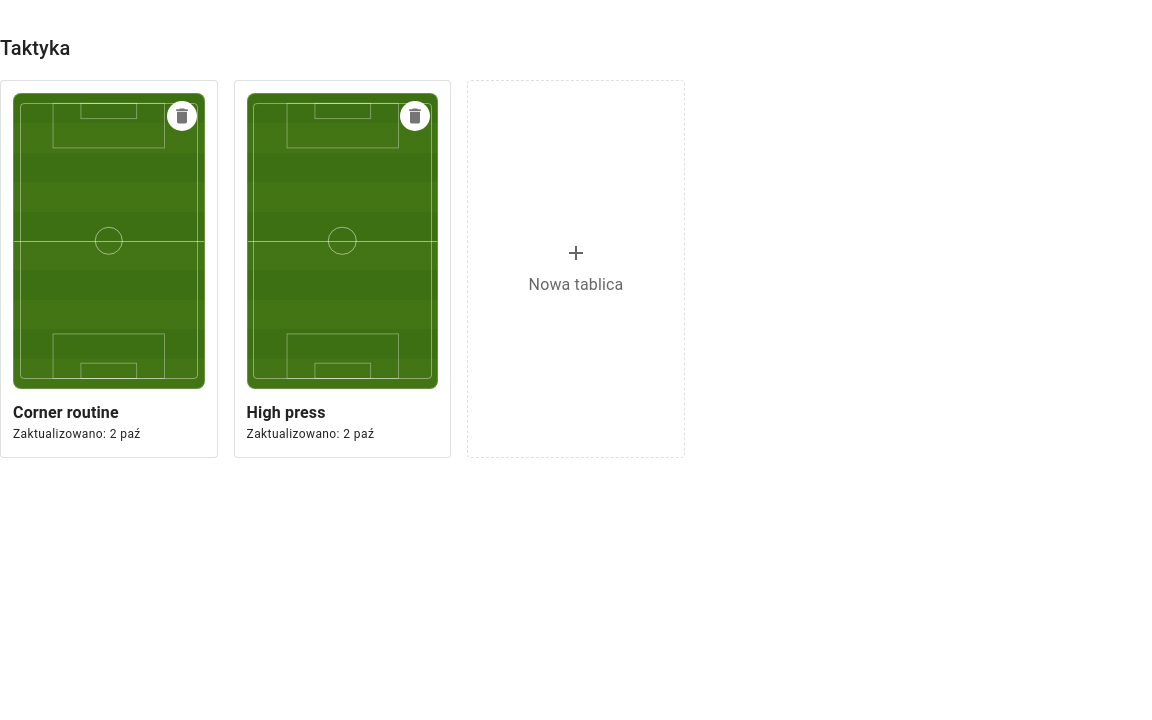
Scenario: deleting a board › does not delete when cancelled
expect the text "Corner routine" is shown: met, box [13, 403, 119, 422]
Click the 1st button named "Usuń tablicę" at {"x": 182, "y": 116}, box [167, 101, 197, 131]
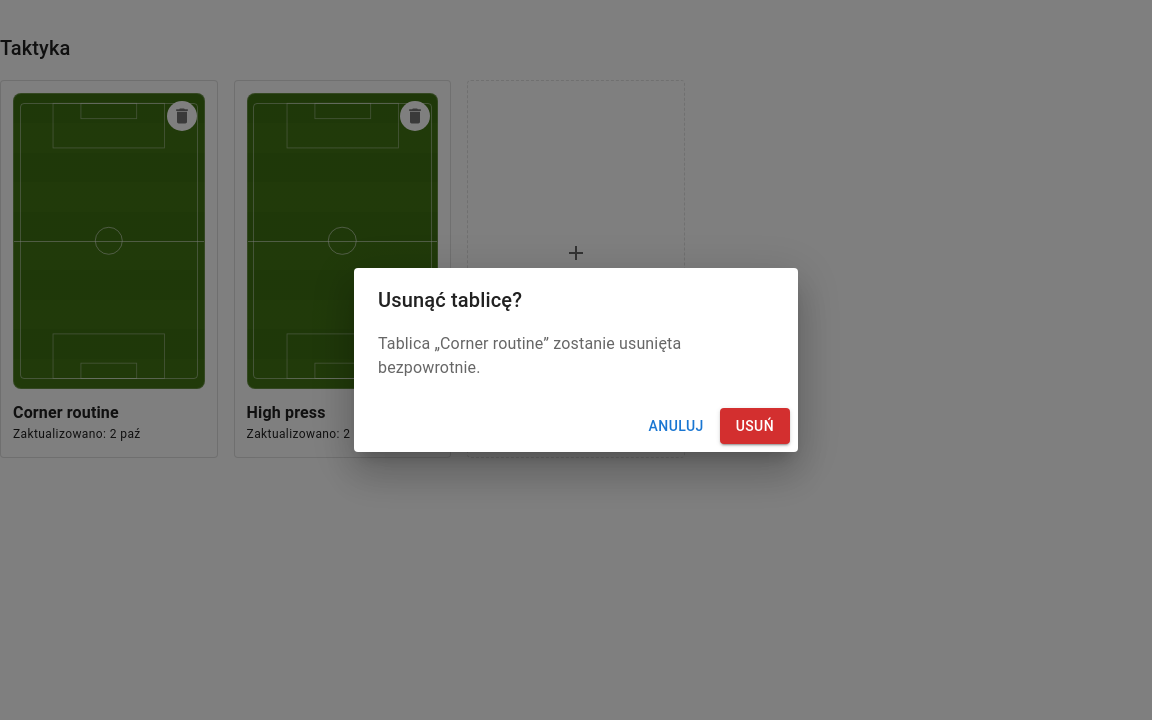
Click the button "Anuluj" at {"x": 676, "y": 426}, box [641, 408, 712, 444]
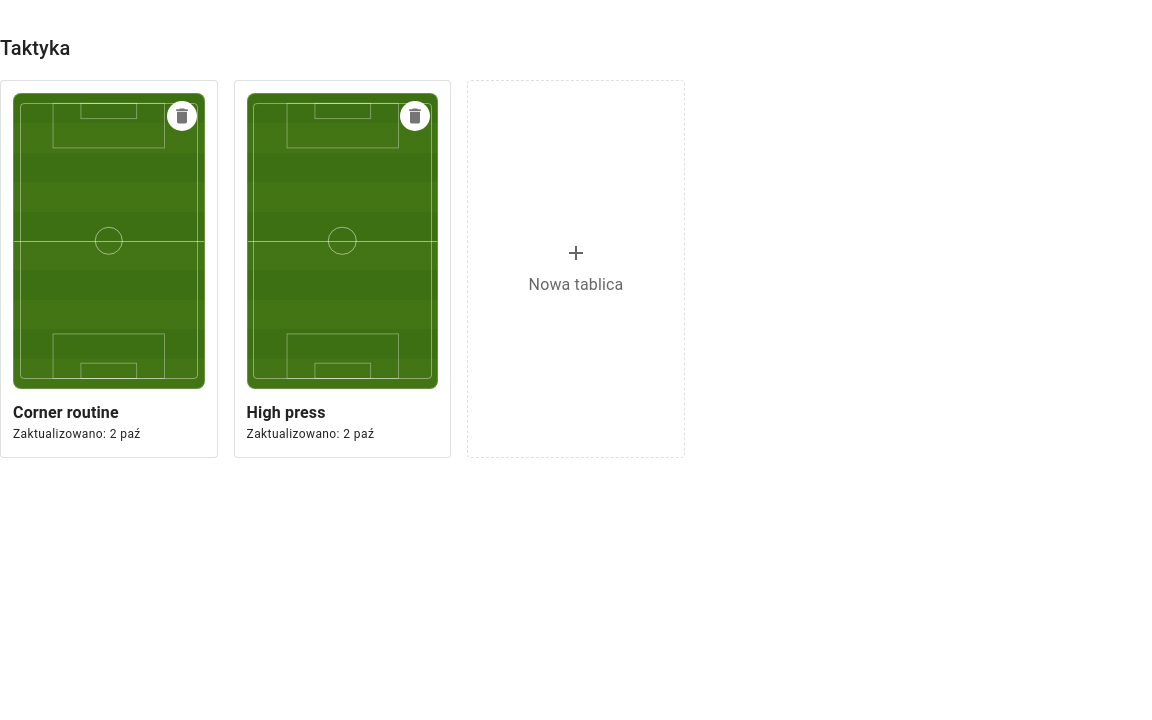
expect the text "Corner routine" is shown: met, box [13, 403, 119, 422]
expect the dialog is gone: met
